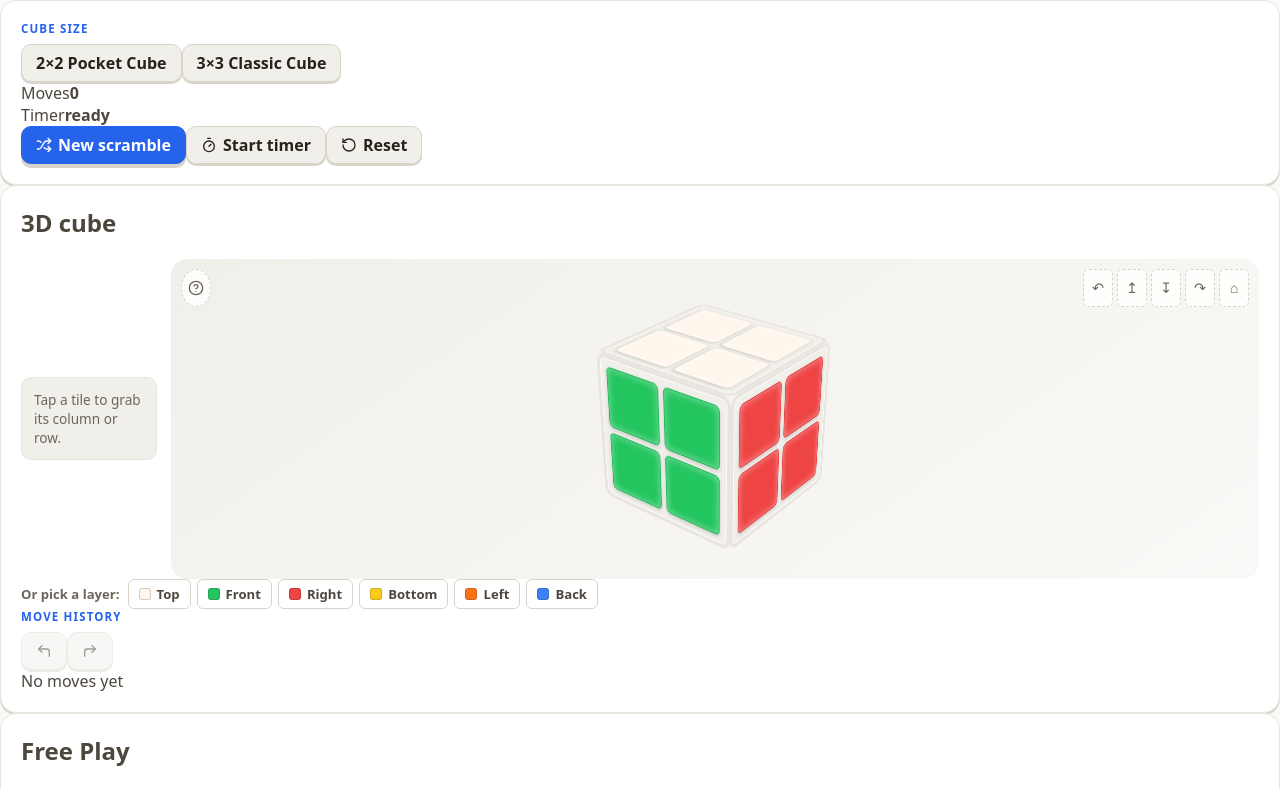
Test: FreePlayPanel — honest completion gating › an exact tie of the stored best time does not claim "New best time."
This screenshot has width=1280, height=788.
Click the button "New scramble" at x=104, y=145, box [21,126,186,164]
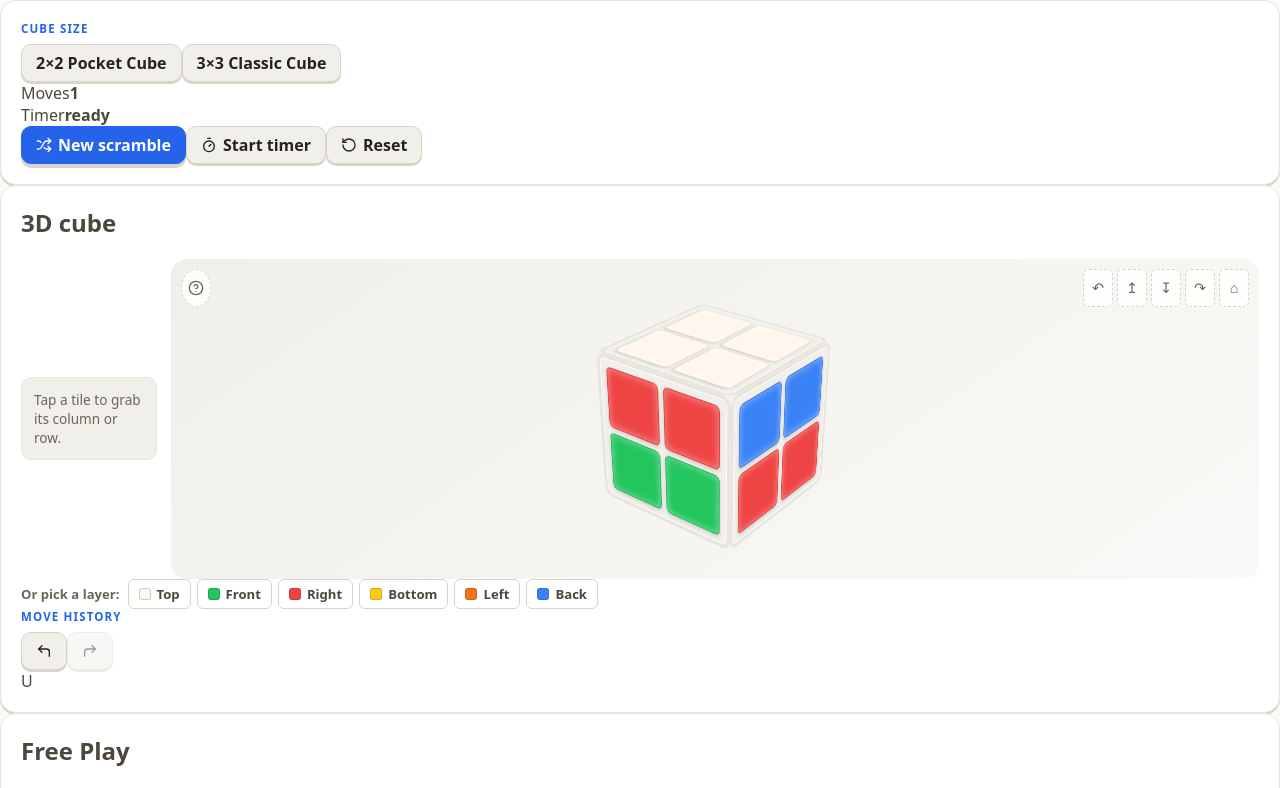
Press u
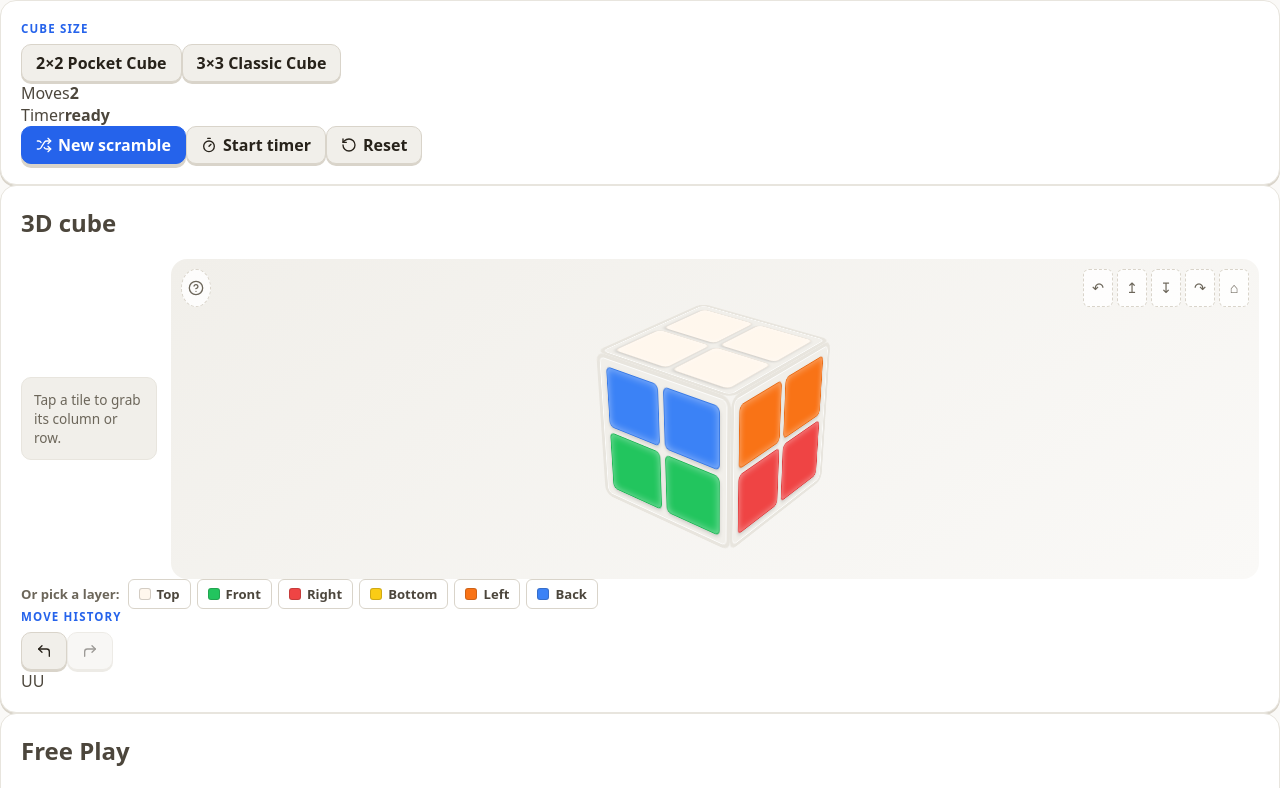
Press u
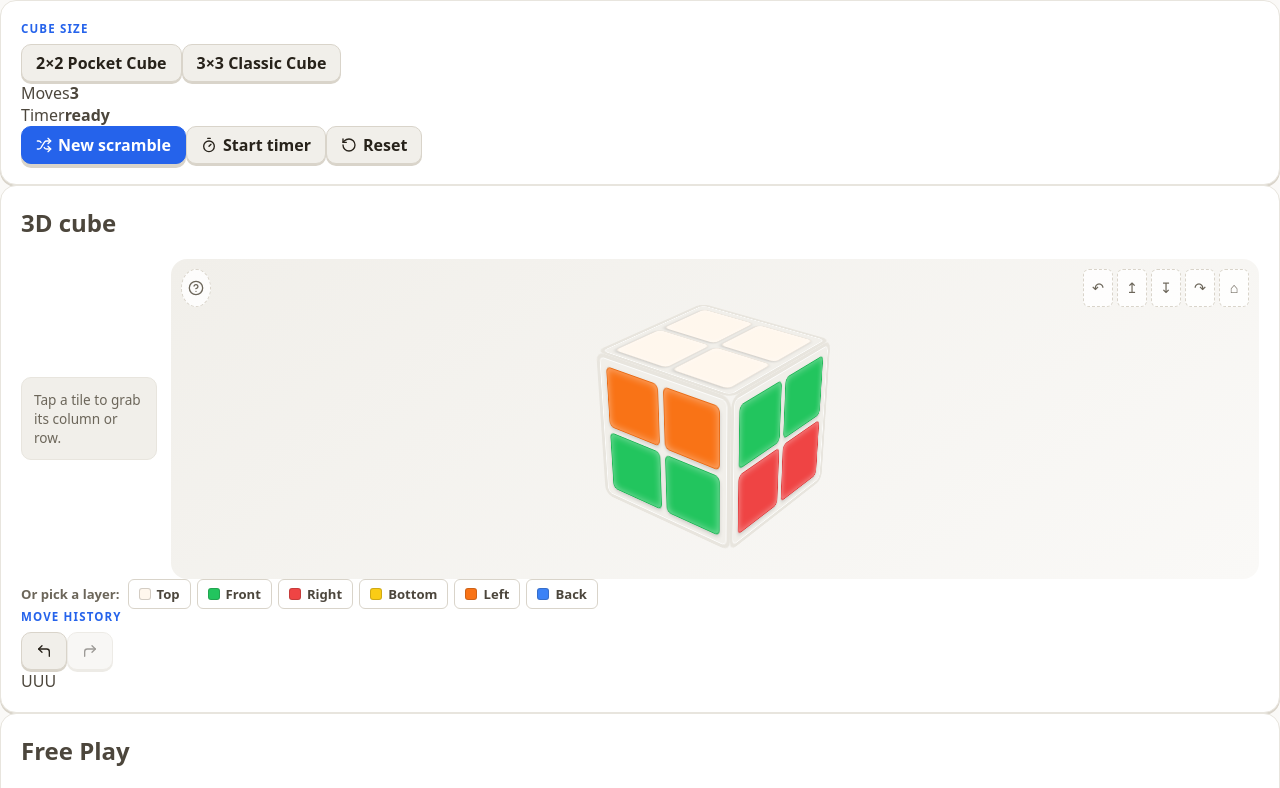
Press u
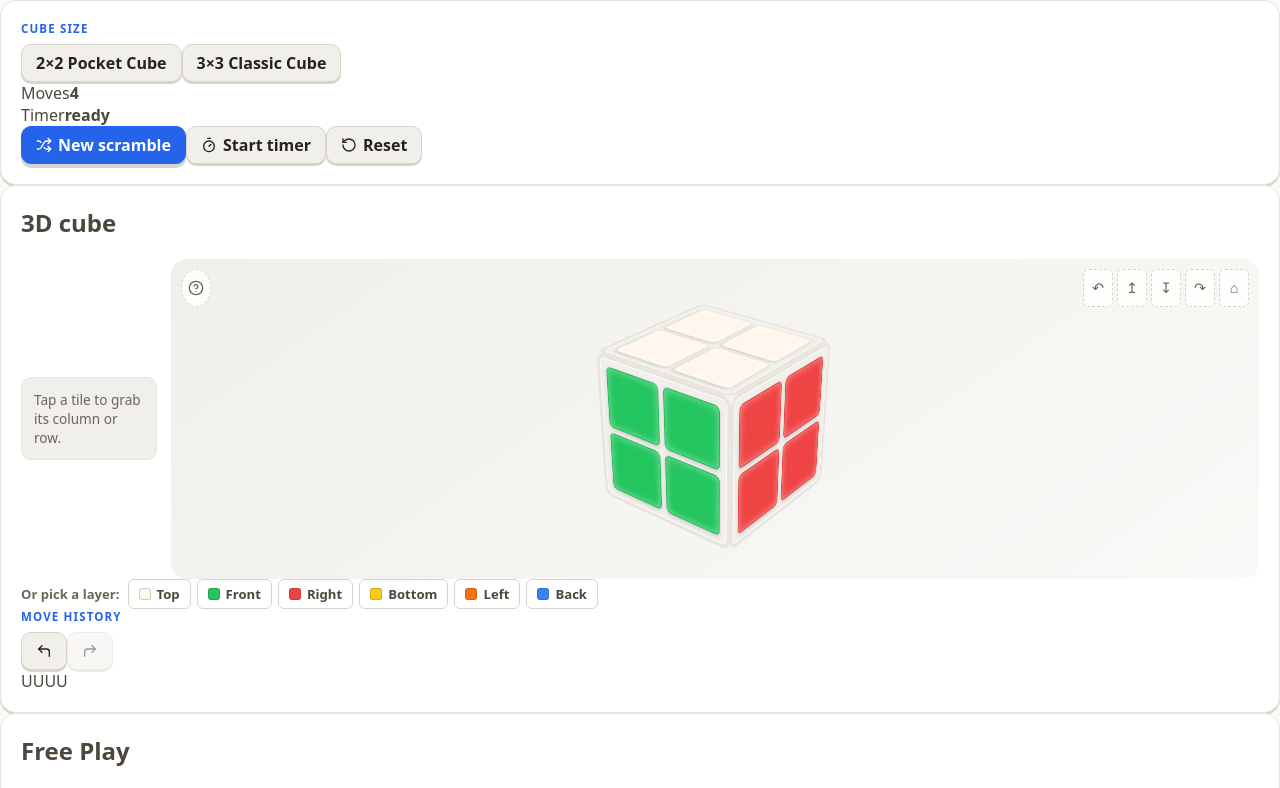
Click the button "Start timer" at x=256, y=145, box [186,126,326,164]
Wait 5000 ms
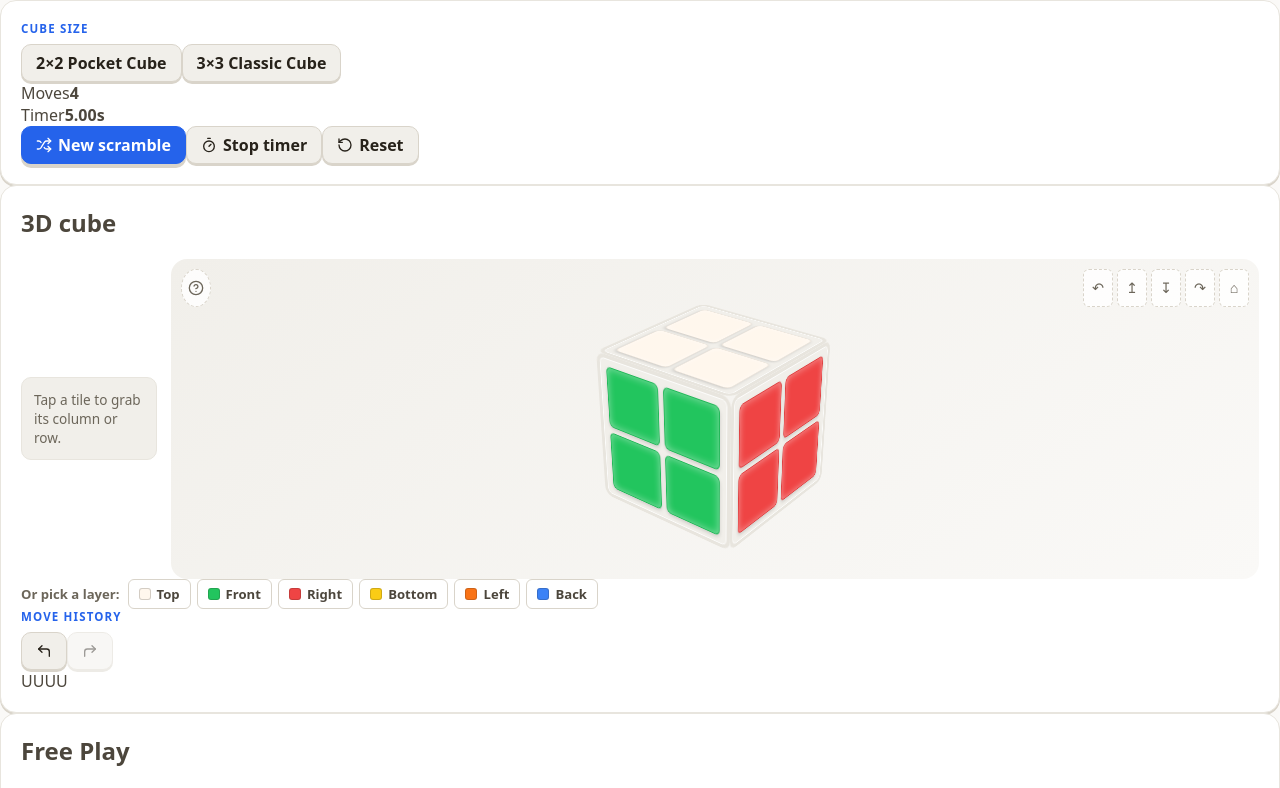
Click the button "Stop timer" at x=254, y=145, box [186,126,322,164]
(page scrolled)
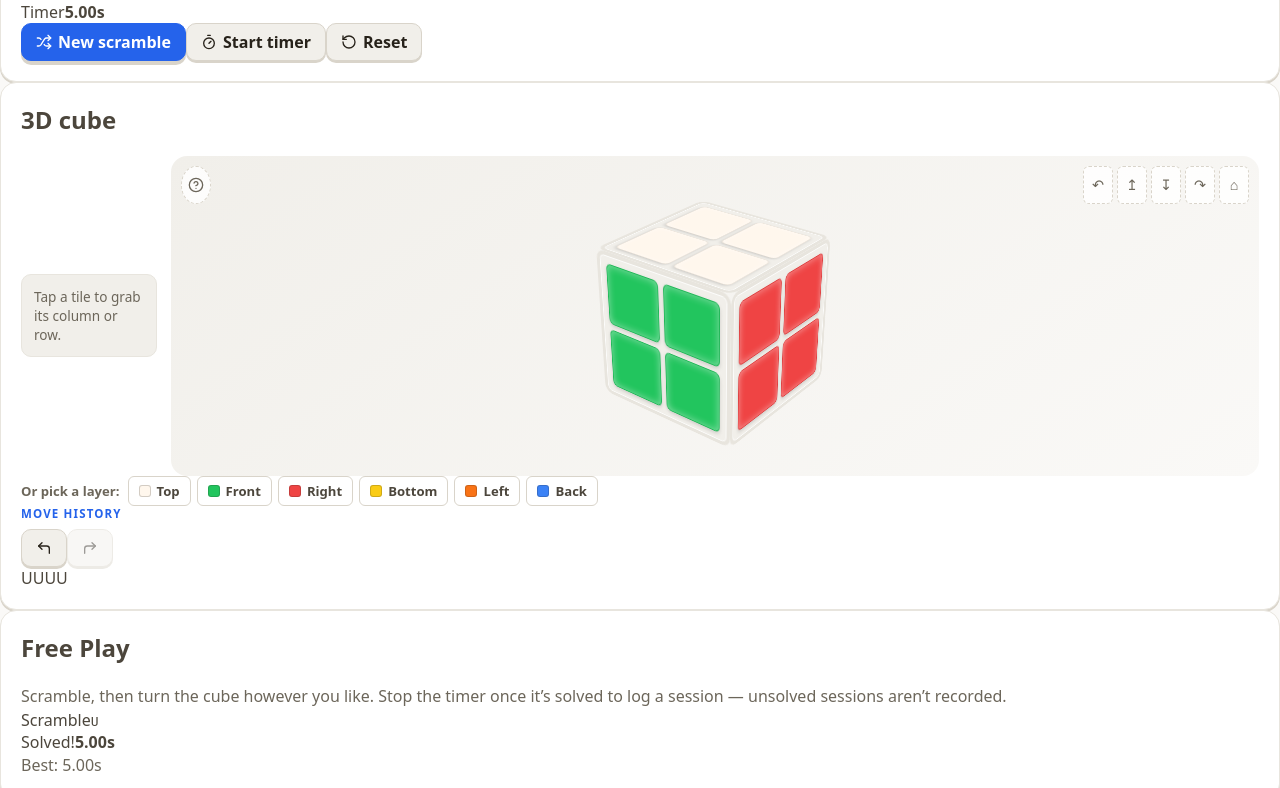
Now the text "Best: 5.00s" is shown, box [21,754,102,776]
